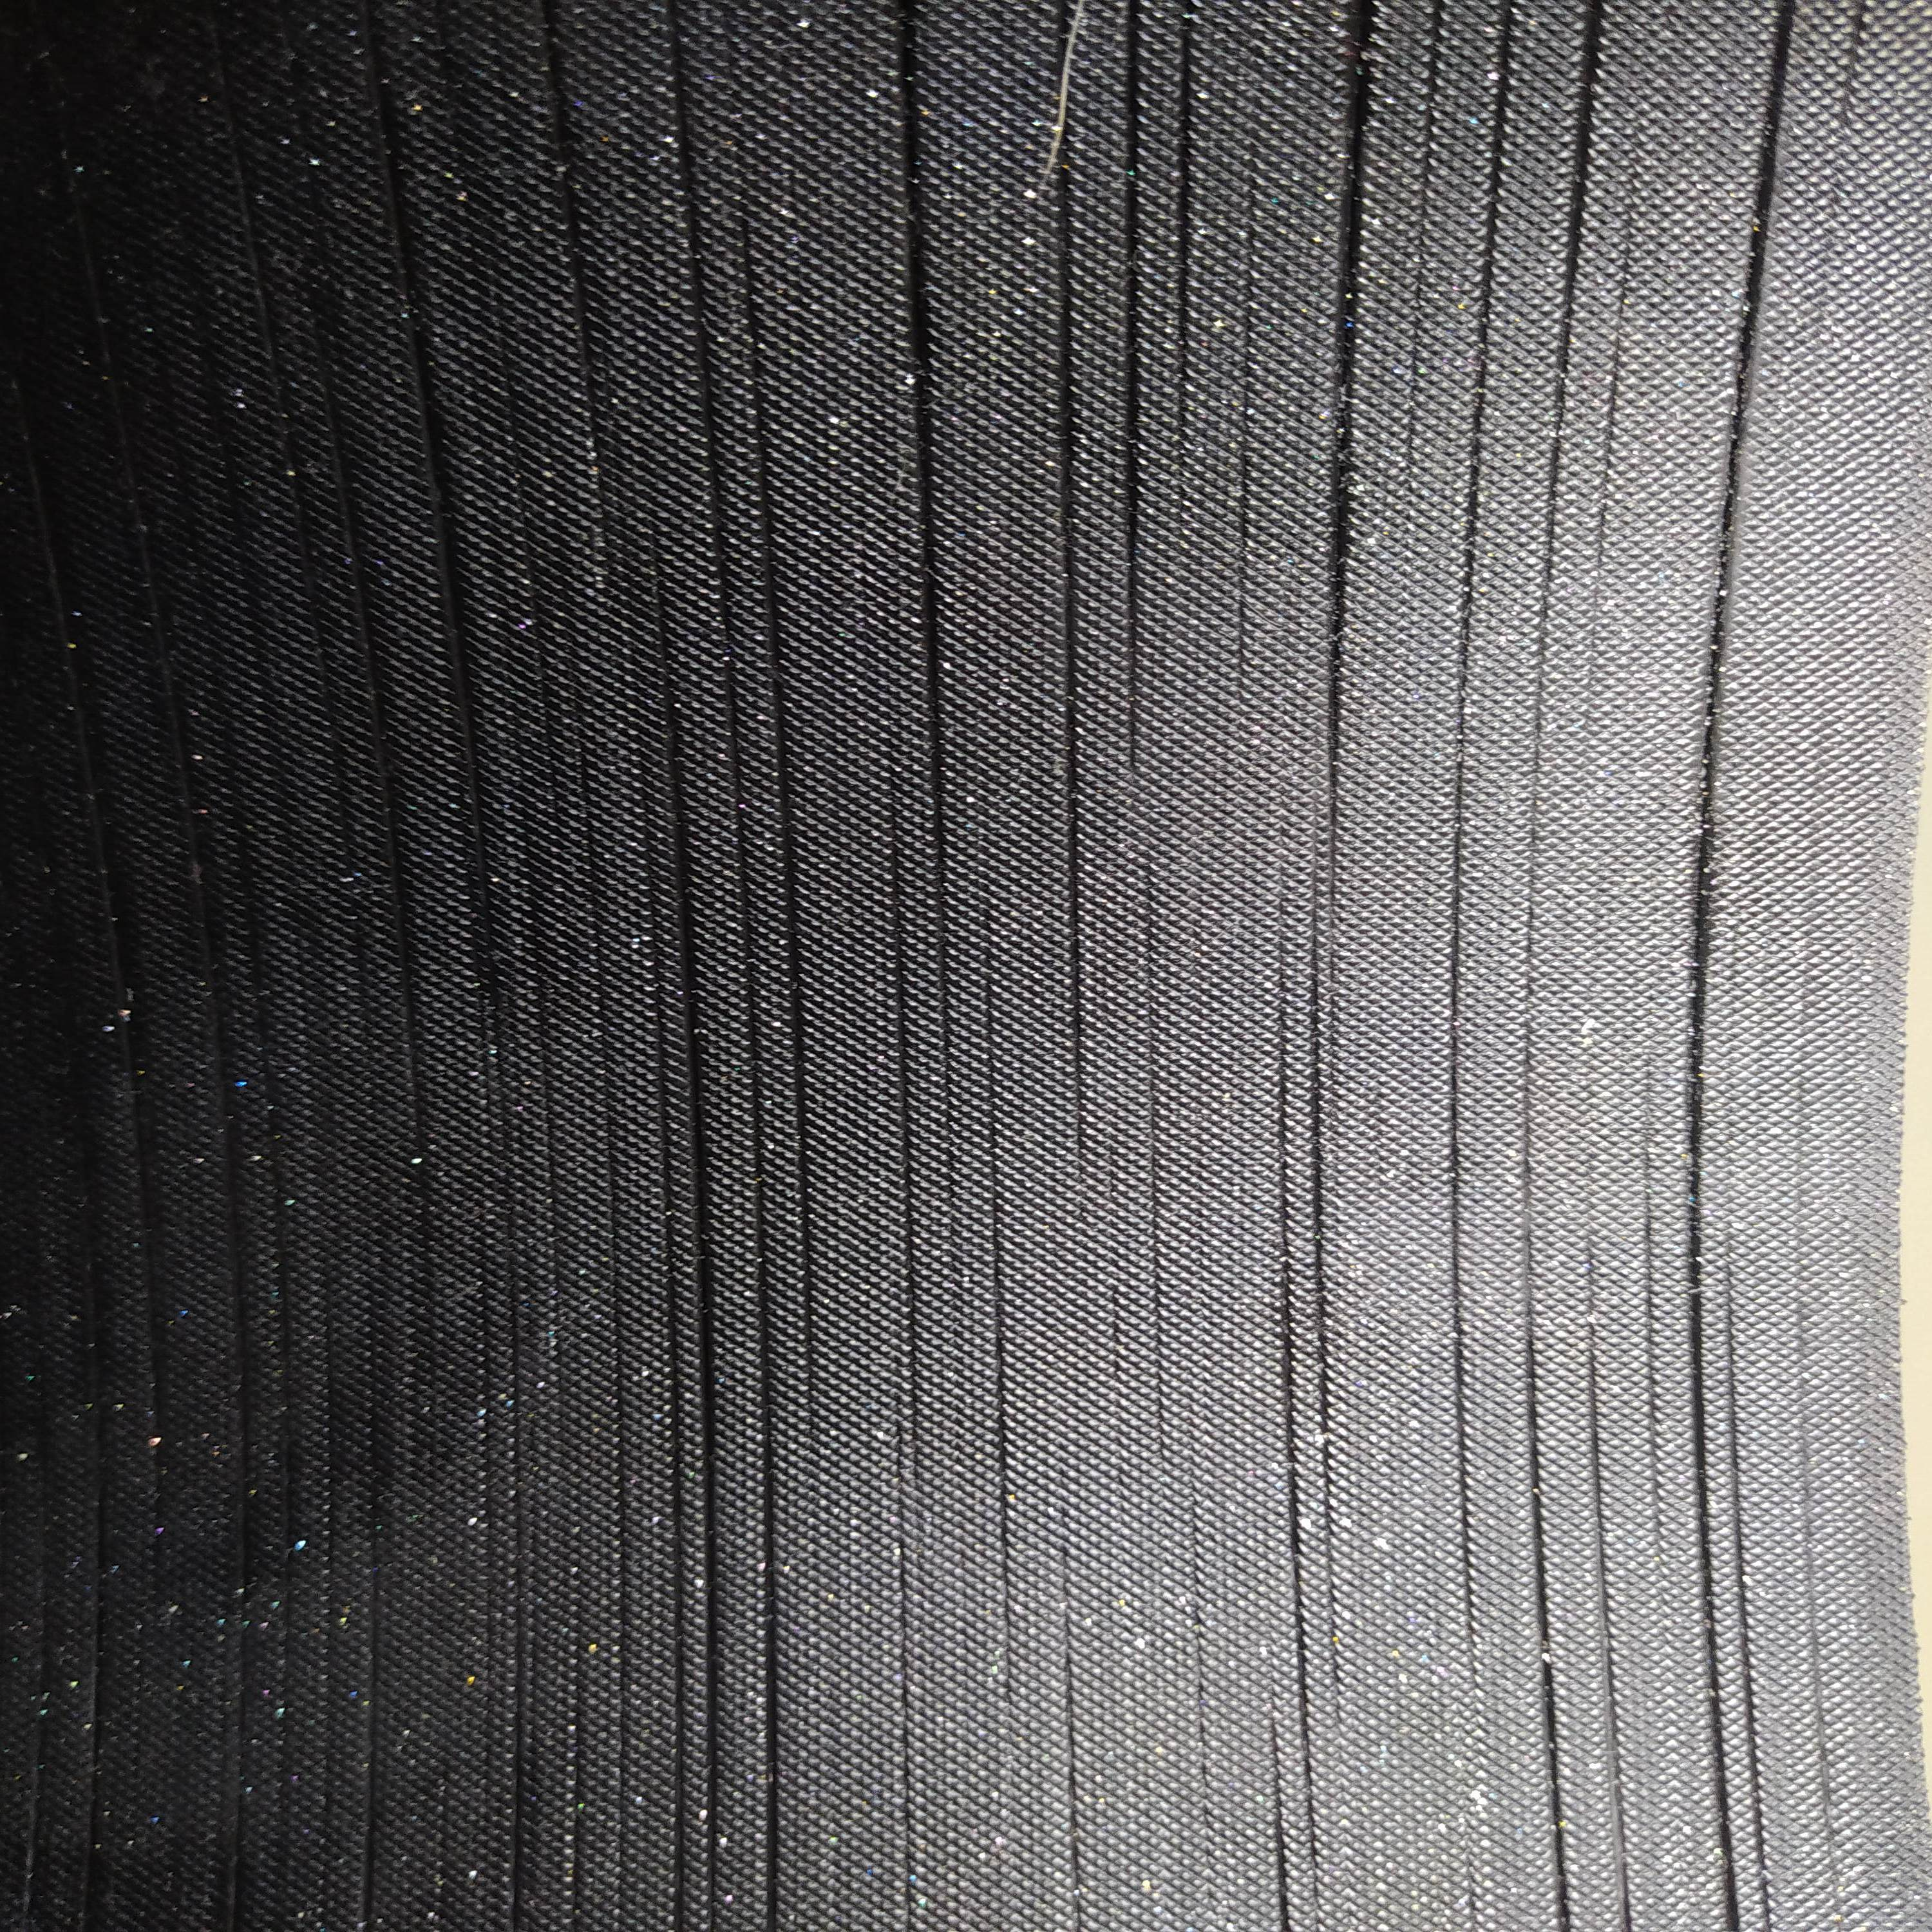friso grande: (1435, 782, 1481, 1683), (1166, 14, 1207, 524), (1309, 1247, 1346, 1732), (752, 1449, 789, 1925), (1053, 253, 1085, 755), (561, 165, 610, 483), (1325, 126, 1378, 398), (1704, 380, 1741, 764), (1060, 755, 1092, 1180), (1274, 1392, 1318, 1693), (1325, 398, 1362, 752), (1300, 878, 1336, 1246), (741, 1090, 777, 1453), (793, 982, 819, 1449), (1732, 134, 1778, 387), (74, 1667, 115, 1930), (1537, 1686, 1582, 1927), (508, 1433, 529, 1930), (347, 1681, 386, 1930), (1260, 1697, 1300, 1932), (759, 522, 798, 768), (140, 1269, 168, 1603), (1465, 239, 1504, 478), (901, 1085, 924, 1484), (446, 556, 492, 754), (1449, 478, 1479, 780), (732, 853, 768, 1104), (692, 1286, 724, 1559), (1272, 1143, 1306, 1398), (1122, 379, 1143, 771), (1541, 303, 1580, 517), (214, 1706, 251, 1925), (1120, 0, 1141, 380), (19, 1675, 51, 1925), (702, 1555, 724, 1927), (129, 1058, 166, 1267), (886, 814, 915, 1086), (525, 547, 557, 775), (540, 4, 584, 166), (568, 1530, 586, 1930), (906, 299, 939, 506), (110, 863, 145, 1060), (688, 1076, 720, 1292), (902, 103, 938, 295), (1736, 1483, 1759, 1776), (1514, 1069, 1541, 1322), (487, 938, 518, 1148), (188, 796, 226, 968), (918, 510, 945, 761), (1525, 1516, 1564, 1686), (502, 1148, 525, 1435), (1049, 81, 1086, 258), (467, 752, 501, 947), (1336, 0, 1385, 129), (681, 150, 713, 349), (1481, 58, 1514, 244), (1269, 870, 1292, 1141), (1684, 984, 1709, 1235), (372, 761, 418, 895), (925, 759, 959, 941), (717, 554, 747, 757), (1300, 1691, 1329, 1905), (697, 345, 725, 559), (662, 1392, 686, 1635), (678, 893, 709, 1079), (1571, 0, 1617, 126), (1684, 816, 1718, 985), (1518, 1322, 1546, 1523), (1757, 0, 1798, 140), (364, 587, 396, 764), (1560, 122, 1591, 304), (646, 901, 672, 1104), (778, 766, 803, 982), (230, 1529, 260, 1706), (428, 402, 462, 559), (672, 1633, 690, 1930), (78, 761, 127, 858), (85, 1490, 111, 1667), (341, 456, 377, 589), (1744, 1780, 1775, 1932), (386, 154, 421, 280), (30, 1502, 55, 1679), (403, 280, 439, 403), (76, 637, 113, 754), (1695, 1525, 1723, 1674), (81, 1346, 111, 1484), (663, 1106, 678, 1396), (225, 1168, 244, 1373), (667, 7, 694, 156), (370, 46, 405, 157), (219, 966, 239, 1168), (1727, 1240, 1743, 1483), (663, 761, 692, 897), (1322, 755, 1352, 883), (232, 1371, 255, 1536), (1683, 1233, 1707, 1384), (1691, 1378, 1716, 1527), (895, 0, 927, 113), (1709, 1665, 1736, 1796), (729, 754, 761, 860), (637, 761, 658, 902), (320, 361, 350, 458), (1718, 1789, 1737, 1928), (391, 899, 418, 996), (1056, 0, 1085, 83), (1497, 11, 1530, 71), (1688, 754, 1720, 814), (333, 761, 357, 832), (1419, 2, 1453, 50)
friso pequeno: (1131, 828, 1189, 1484), (982, 1162, 1023, 1706), (1629, 1044, 1668, 1599), (1178, 1481, 1223, 1909), (1051, 1465, 1090, 1932), (885, 1456, 916, 1923), (1576, 1154, 1608, 1562), (1591, 1566, 1629, 1893), (644, 504, 692, 763), (1231, 352, 1267, 699), (1812, 1658, 1854, 1930), (973, 885, 1005, 1161), (545, 1014, 566, 1419), (938, 934, 964, 1254), (1401, 221, 1435, 469), (1532, 513, 1562, 778), (612, 1523, 632, 1932), (1794, 1203, 1819, 1495), (1720, 938, 1743, 1240), (607, 1246, 632, 1525), (310, 1702, 338, 1928), (271, 1192, 294, 1467), (1520, 770, 1541, 1065), (518, 791, 545, 1010), (1235, 177, 1267, 359), (272, 1670, 294, 1930), (1414, 55, 1445, 225), (272, 361, 313, 494), (313, 1525, 341, 1706), (602, 1042, 626, 1246), (748, 303, 770, 527), (251, 637, 290, 759), (166, 663, 203, 791), (586, 862, 610, 1047), (366, 1499, 391, 1684), (1803, 1499, 1829, 1668), (510, 389, 538, 548), (1796, 826, 1822, 994), (196, 518, 226, 663), (732, 152, 761, 303), (405, 1001, 430, 1173), (246, 876, 272, 1035), (488, 230, 515, 387), (318, 603, 345, 759), (280, 1463, 299, 1674), (221, 393, 249, 534), (272, 763, 304, 888), (1790, 989, 1808, 1208), (136, 547, 172, 656), (318, 1327, 338, 1525), (216, 660, 242, 800), (1601, 285, 1629, 412), (239, 525, 271, 639), (1592, 414, 1617, 559), (341, 828, 364, 982), (1828, 101, 1851, 253), (264, 1028, 285, 1192), (1612, 179, 1644, 287), (1580, 556, 1598, 736), (299, 487, 324, 605), (258, 272, 287, 364), (580, 754, 602, 865), (1845, 5, 1868, 101), (249, 175, 265, 278), (1614, 1890, 1645, 1932)
